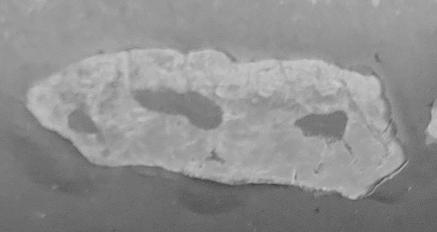paint-off: (1, 1, 437, 232)
